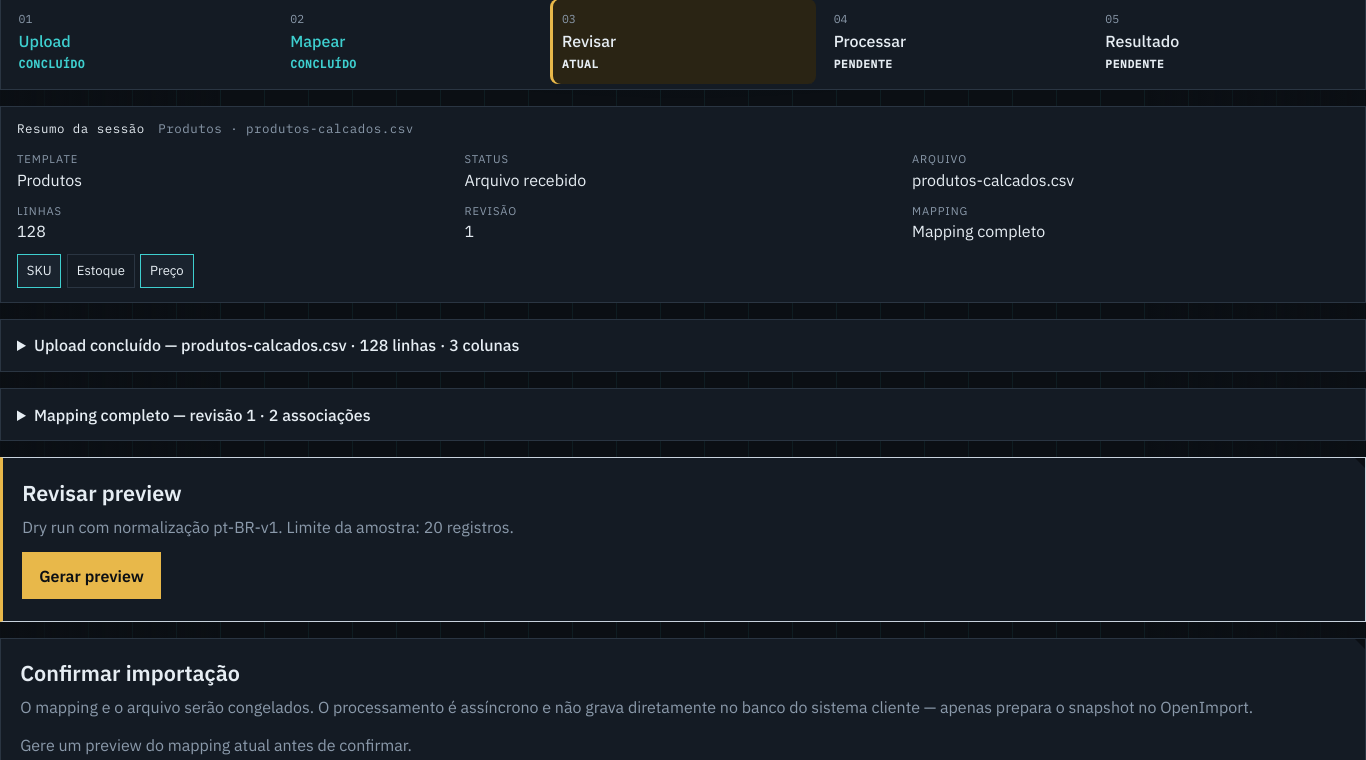
Test: import flow mutations › blocks confirmation when preview is stale after mapping change
Step 1. Click the button "Gerar preview" → (92, 576), box [22,552,161,599]
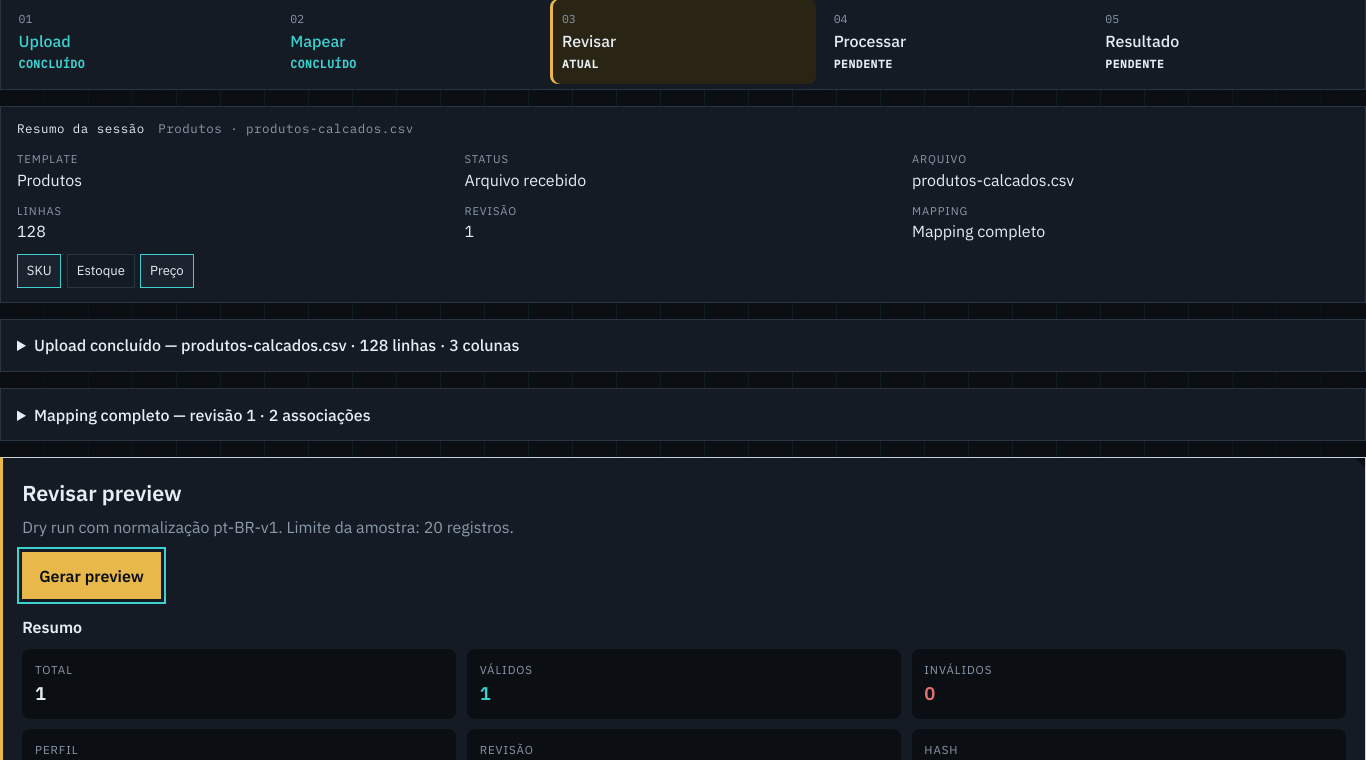
Step 2. Click the heading "Mapping completo — revisão 1 · 2 associações" → (202, 415), box [34,405,371,425]
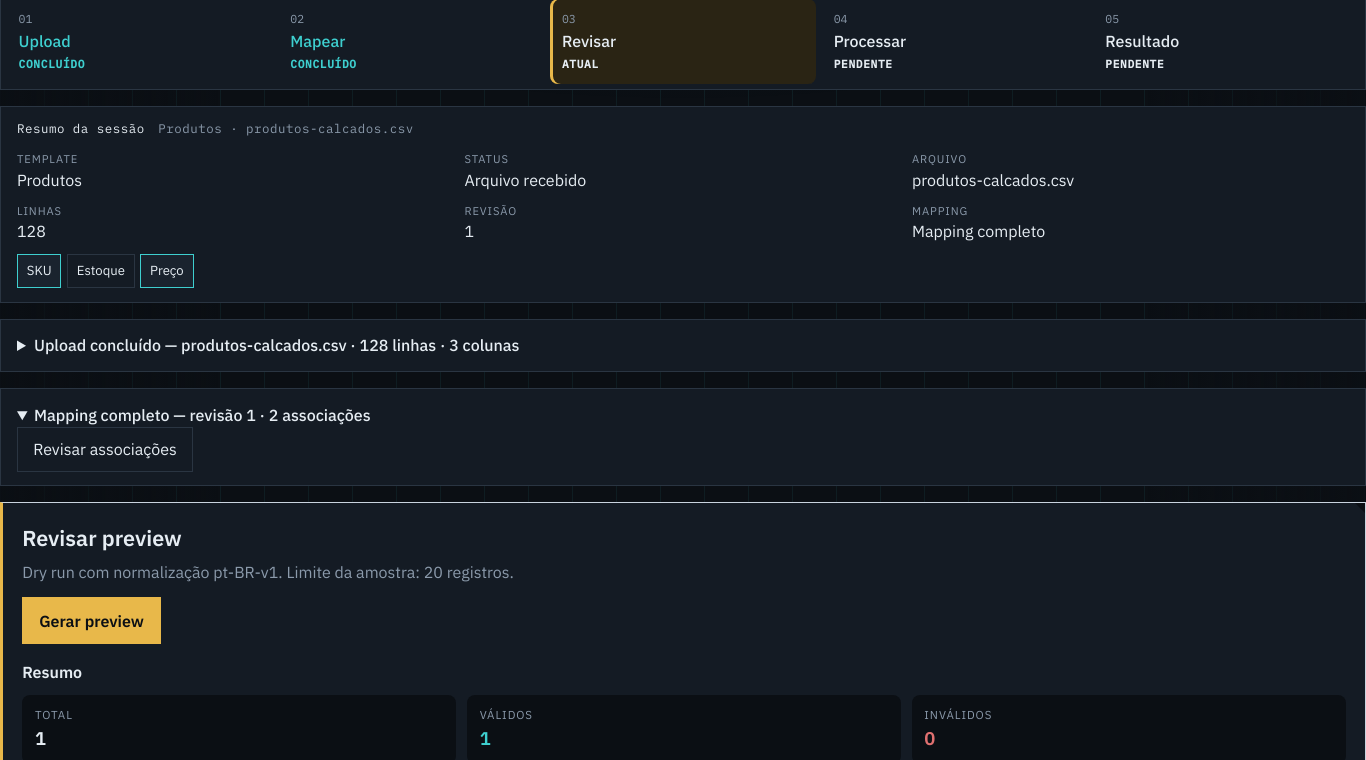
Step 3. Click the button "Revisar associações" → (105, 449), box [17,427,193,472]
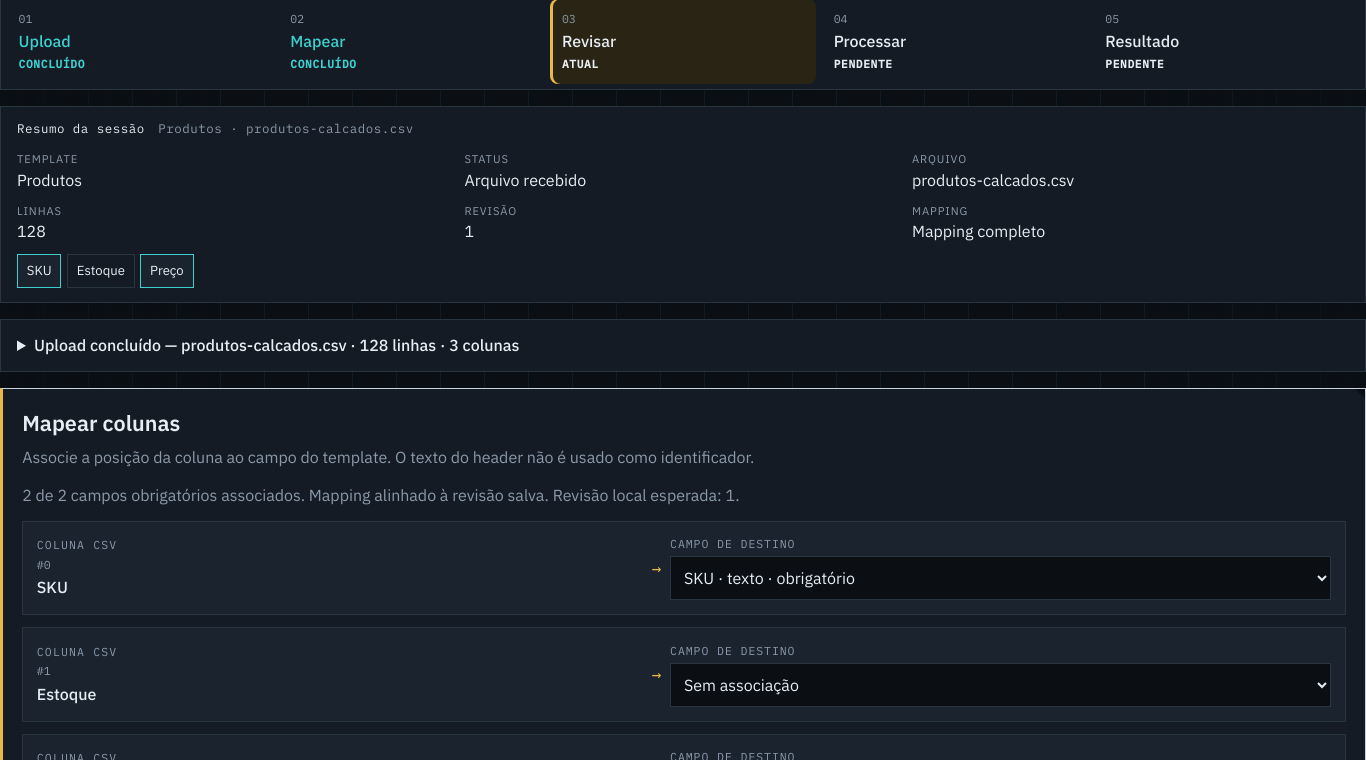
Step 4. Select "Estoque · inteiro · opcional" in the dropdown named "destino da coluna" → (1001, 685), box [670,663,1331,707]
(page scrolled)
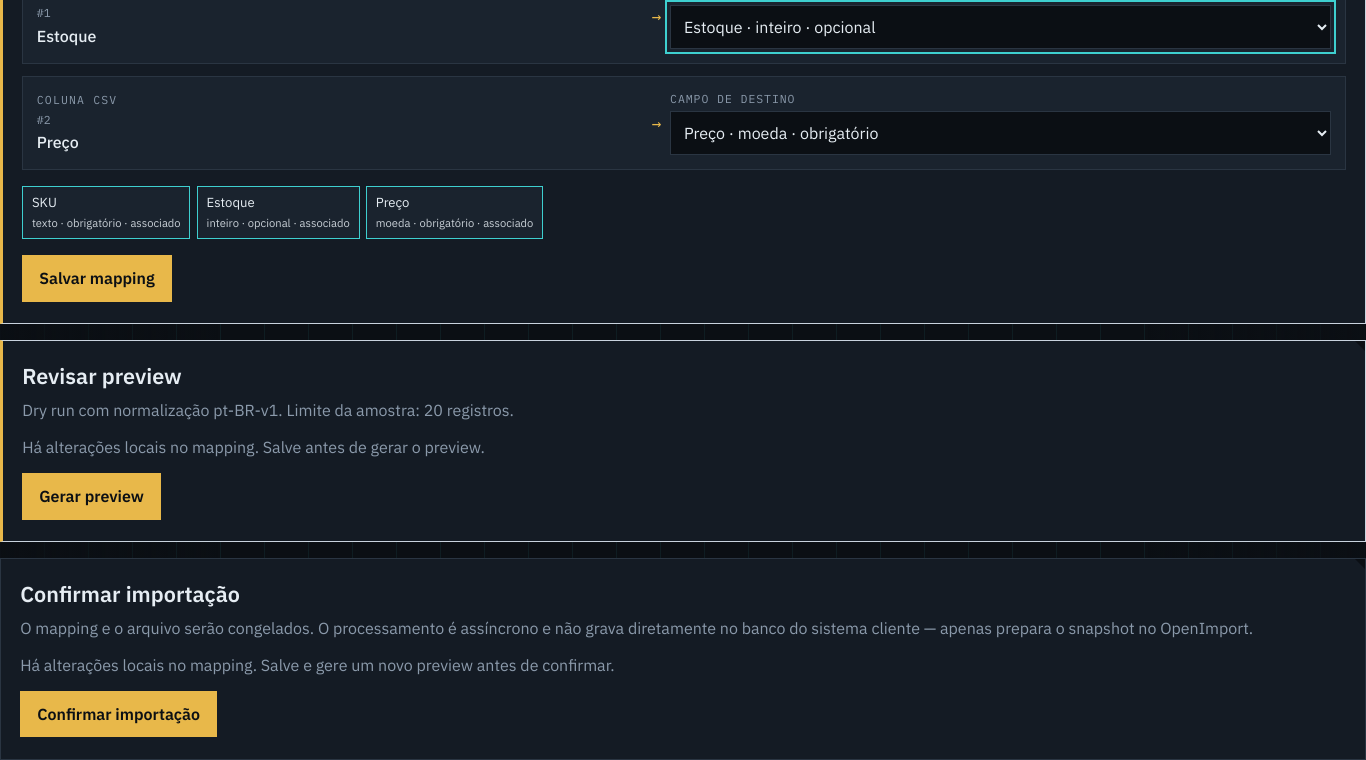
Expected: the element with test id "confirm-panel" is shown, [0,558,1365,759]
Expected: the button "Confirmar importação" is disabled, [20,691,217,738]
